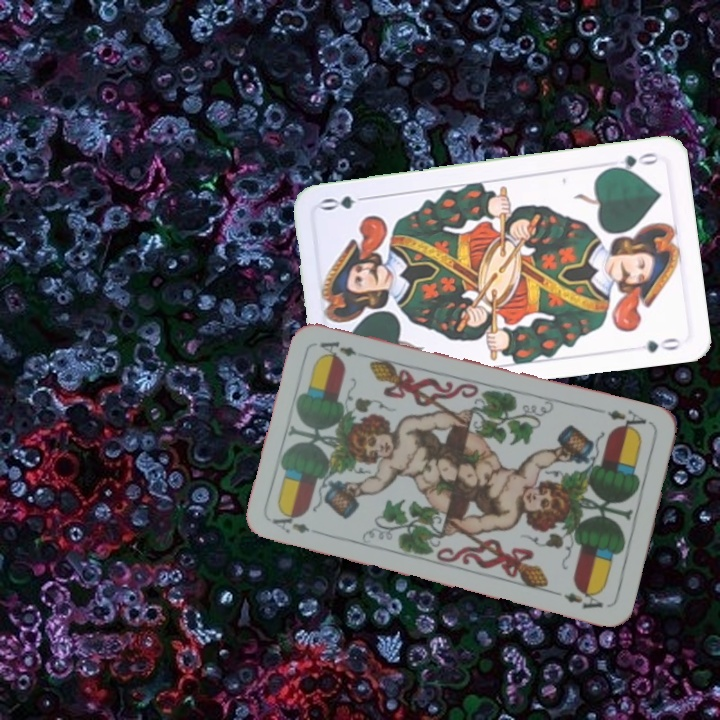EA: (603, 405, 649, 436), (268, 507, 313, 536)
GO: (604, 148, 662, 174)
